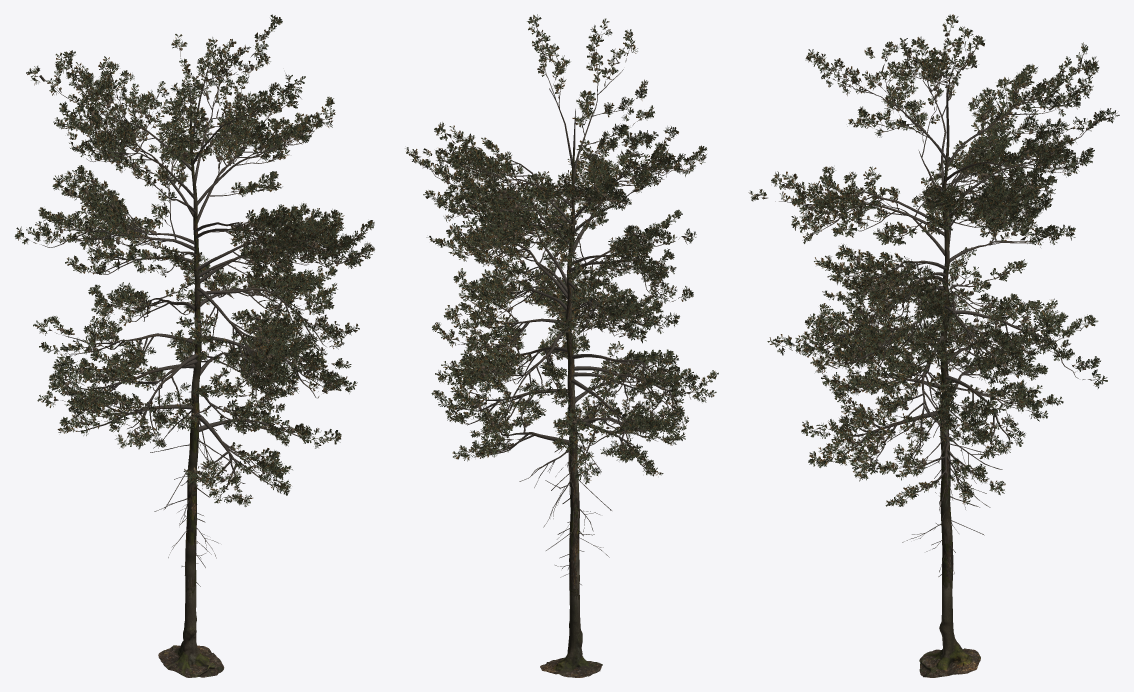
File: pine-mature-v2-near.glb
3 views of the same model, side by side, from view 1: azimuth 30°, elevation 25°; view 2: azimuth 150°, elevation 25°; view 3: azimuth 270°, elevation 25° (orthographic). The views are drawn at different scales.
Visible parts, largest first — view 1: pine_tree_01_b_LOD0; view 2: pine_tree_01_b_LOD0; view 3: pine_tree_01_b_LOD0.
Boxes of the visible parts, left/top/right/bottom form: pine_tree_01_b_LOD0: left=14, top=14, right=374, bottom=677; pine_tree_01_b_LOD0: left=405, top=14, right=718, bottom=677; pine_tree_01_b_LOD0: left=748, top=14, right=1119, bottom=677.
Bounding box in the file's own units: 7.21 × 14.86 × 7.58.
Materials: 3 (3 with a texture image).
